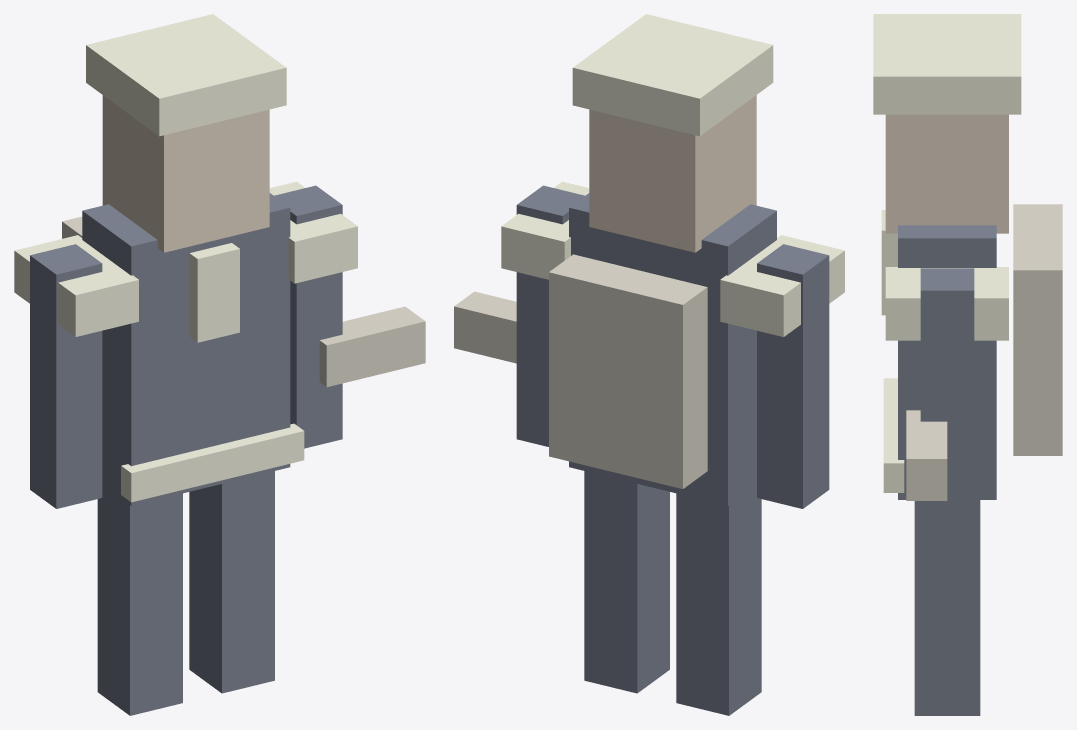
The model's file is 15_vexa_starfall_broker_from_stabilizer.glb.
3 views of the same model, side by side, from view 1: azimuth 30°, elevation 25°; view 2: azimuth 150°, elevation 25°; view 3: azimuth 270°, elevation 25° (orthographic).
Visible parts, largest first — view 1: Vexa Starfall, Broker from Stabilizer; view 2: Vexa Starfall, Broker from Stabilizer; view 3: Vexa Starfall, Broker from Stabilizer.
Part boxes in pixels (x1,y1,x2,y2): Vexa Starfall, Broker from Stabilizer: [14, 14, 425, 715]; Vexa Starfall, Broker from Stabilizer: [454, 14, 844, 715]; Vexa Starfall, Broker from Stabilizer: [873, 14, 1062, 715].
Size of the model in its own units: 1 by 1.67 by 0.451.
